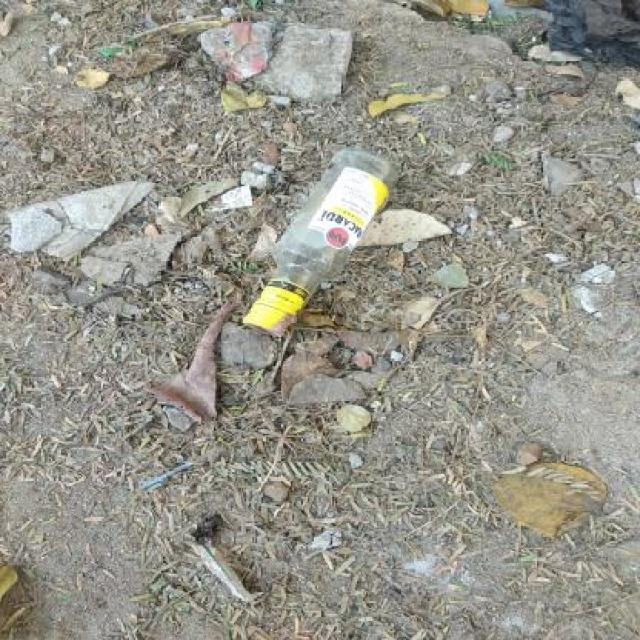garbage: (113, 142, 450, 342), (426, 415, 629, 580), (162, 306, 238, 429), (156, 534, 269, 605), (335, 93, 470, 136)
